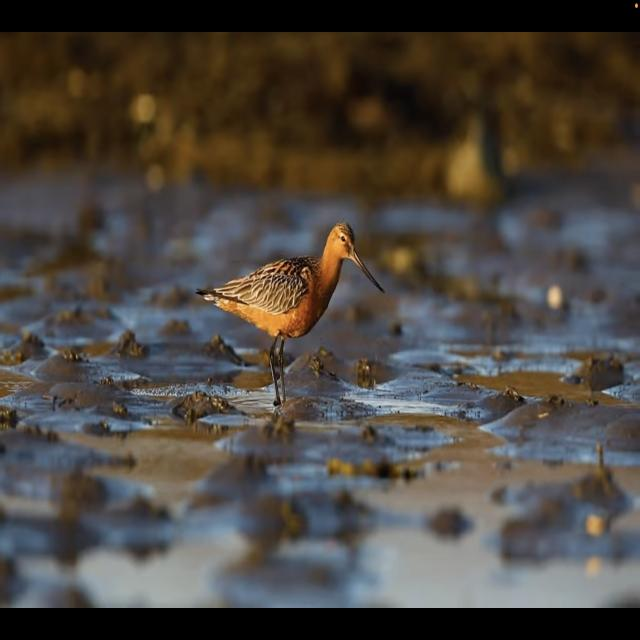beak: (350, 254, 386, 293)
bird: (196, 219, 386, 422)
